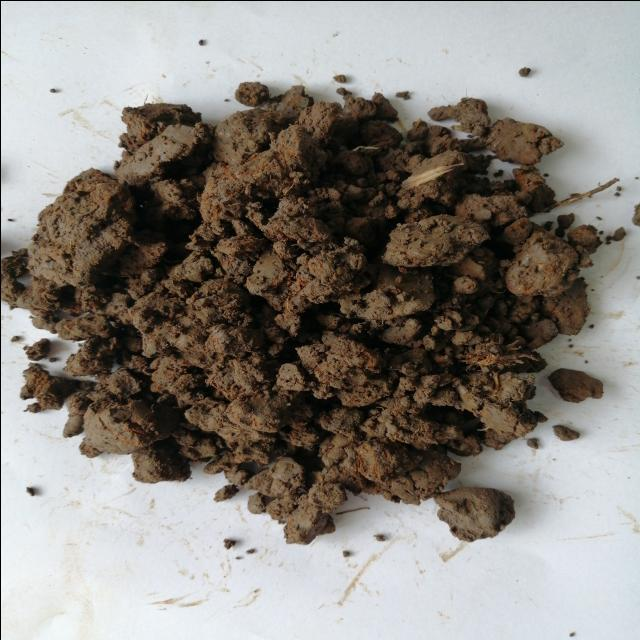soil: (0, 173, 545, 513)
